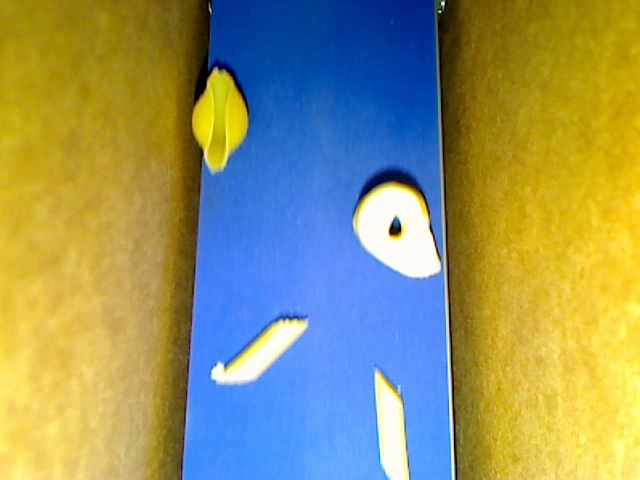penne: (215, 317, 310, 384), (373, 365, 410, 479)
shell: (191, 66, 247, 173)
tortellini: (350, 181, 440, 279)
